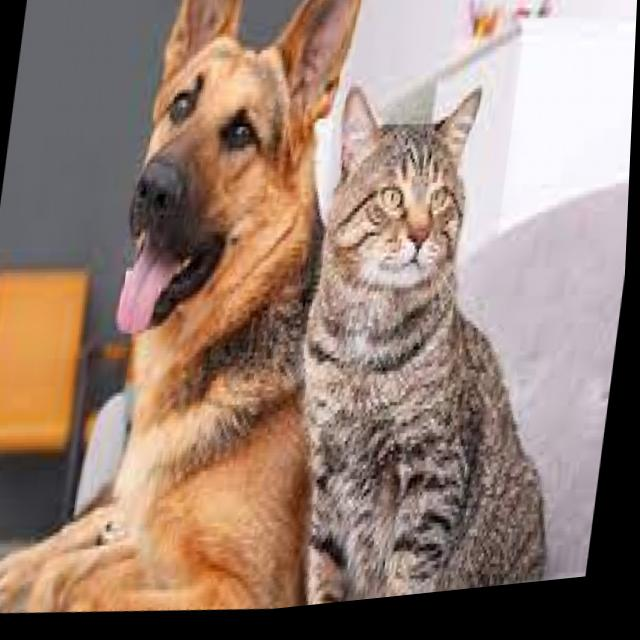Cat: (279, 67, 606, 615)
Dog: (47, 0, 358, 633)
